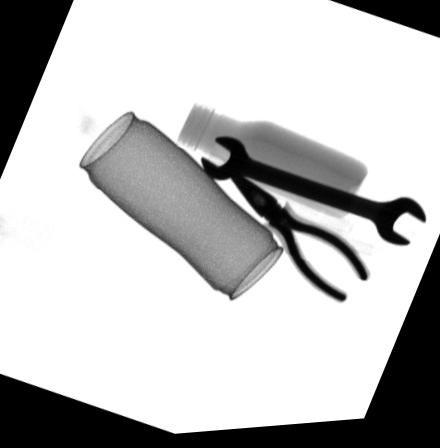Pliers: (228, 173, 371, 311)
Wrench: (201, 140, 427, 255)
